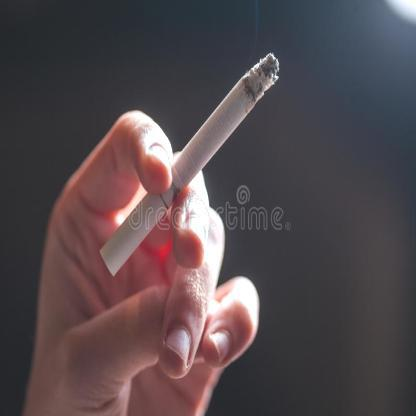cigarette: (96, 48, 282, 278)
